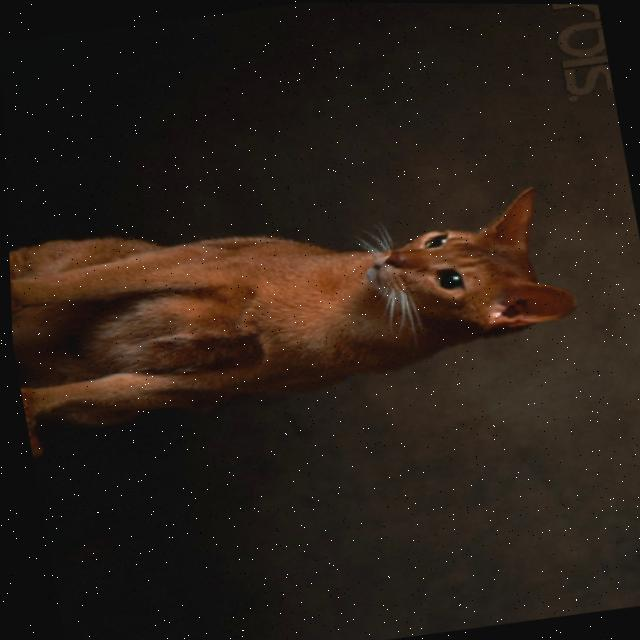Abyssinian: (5, 164, 595, 466)
